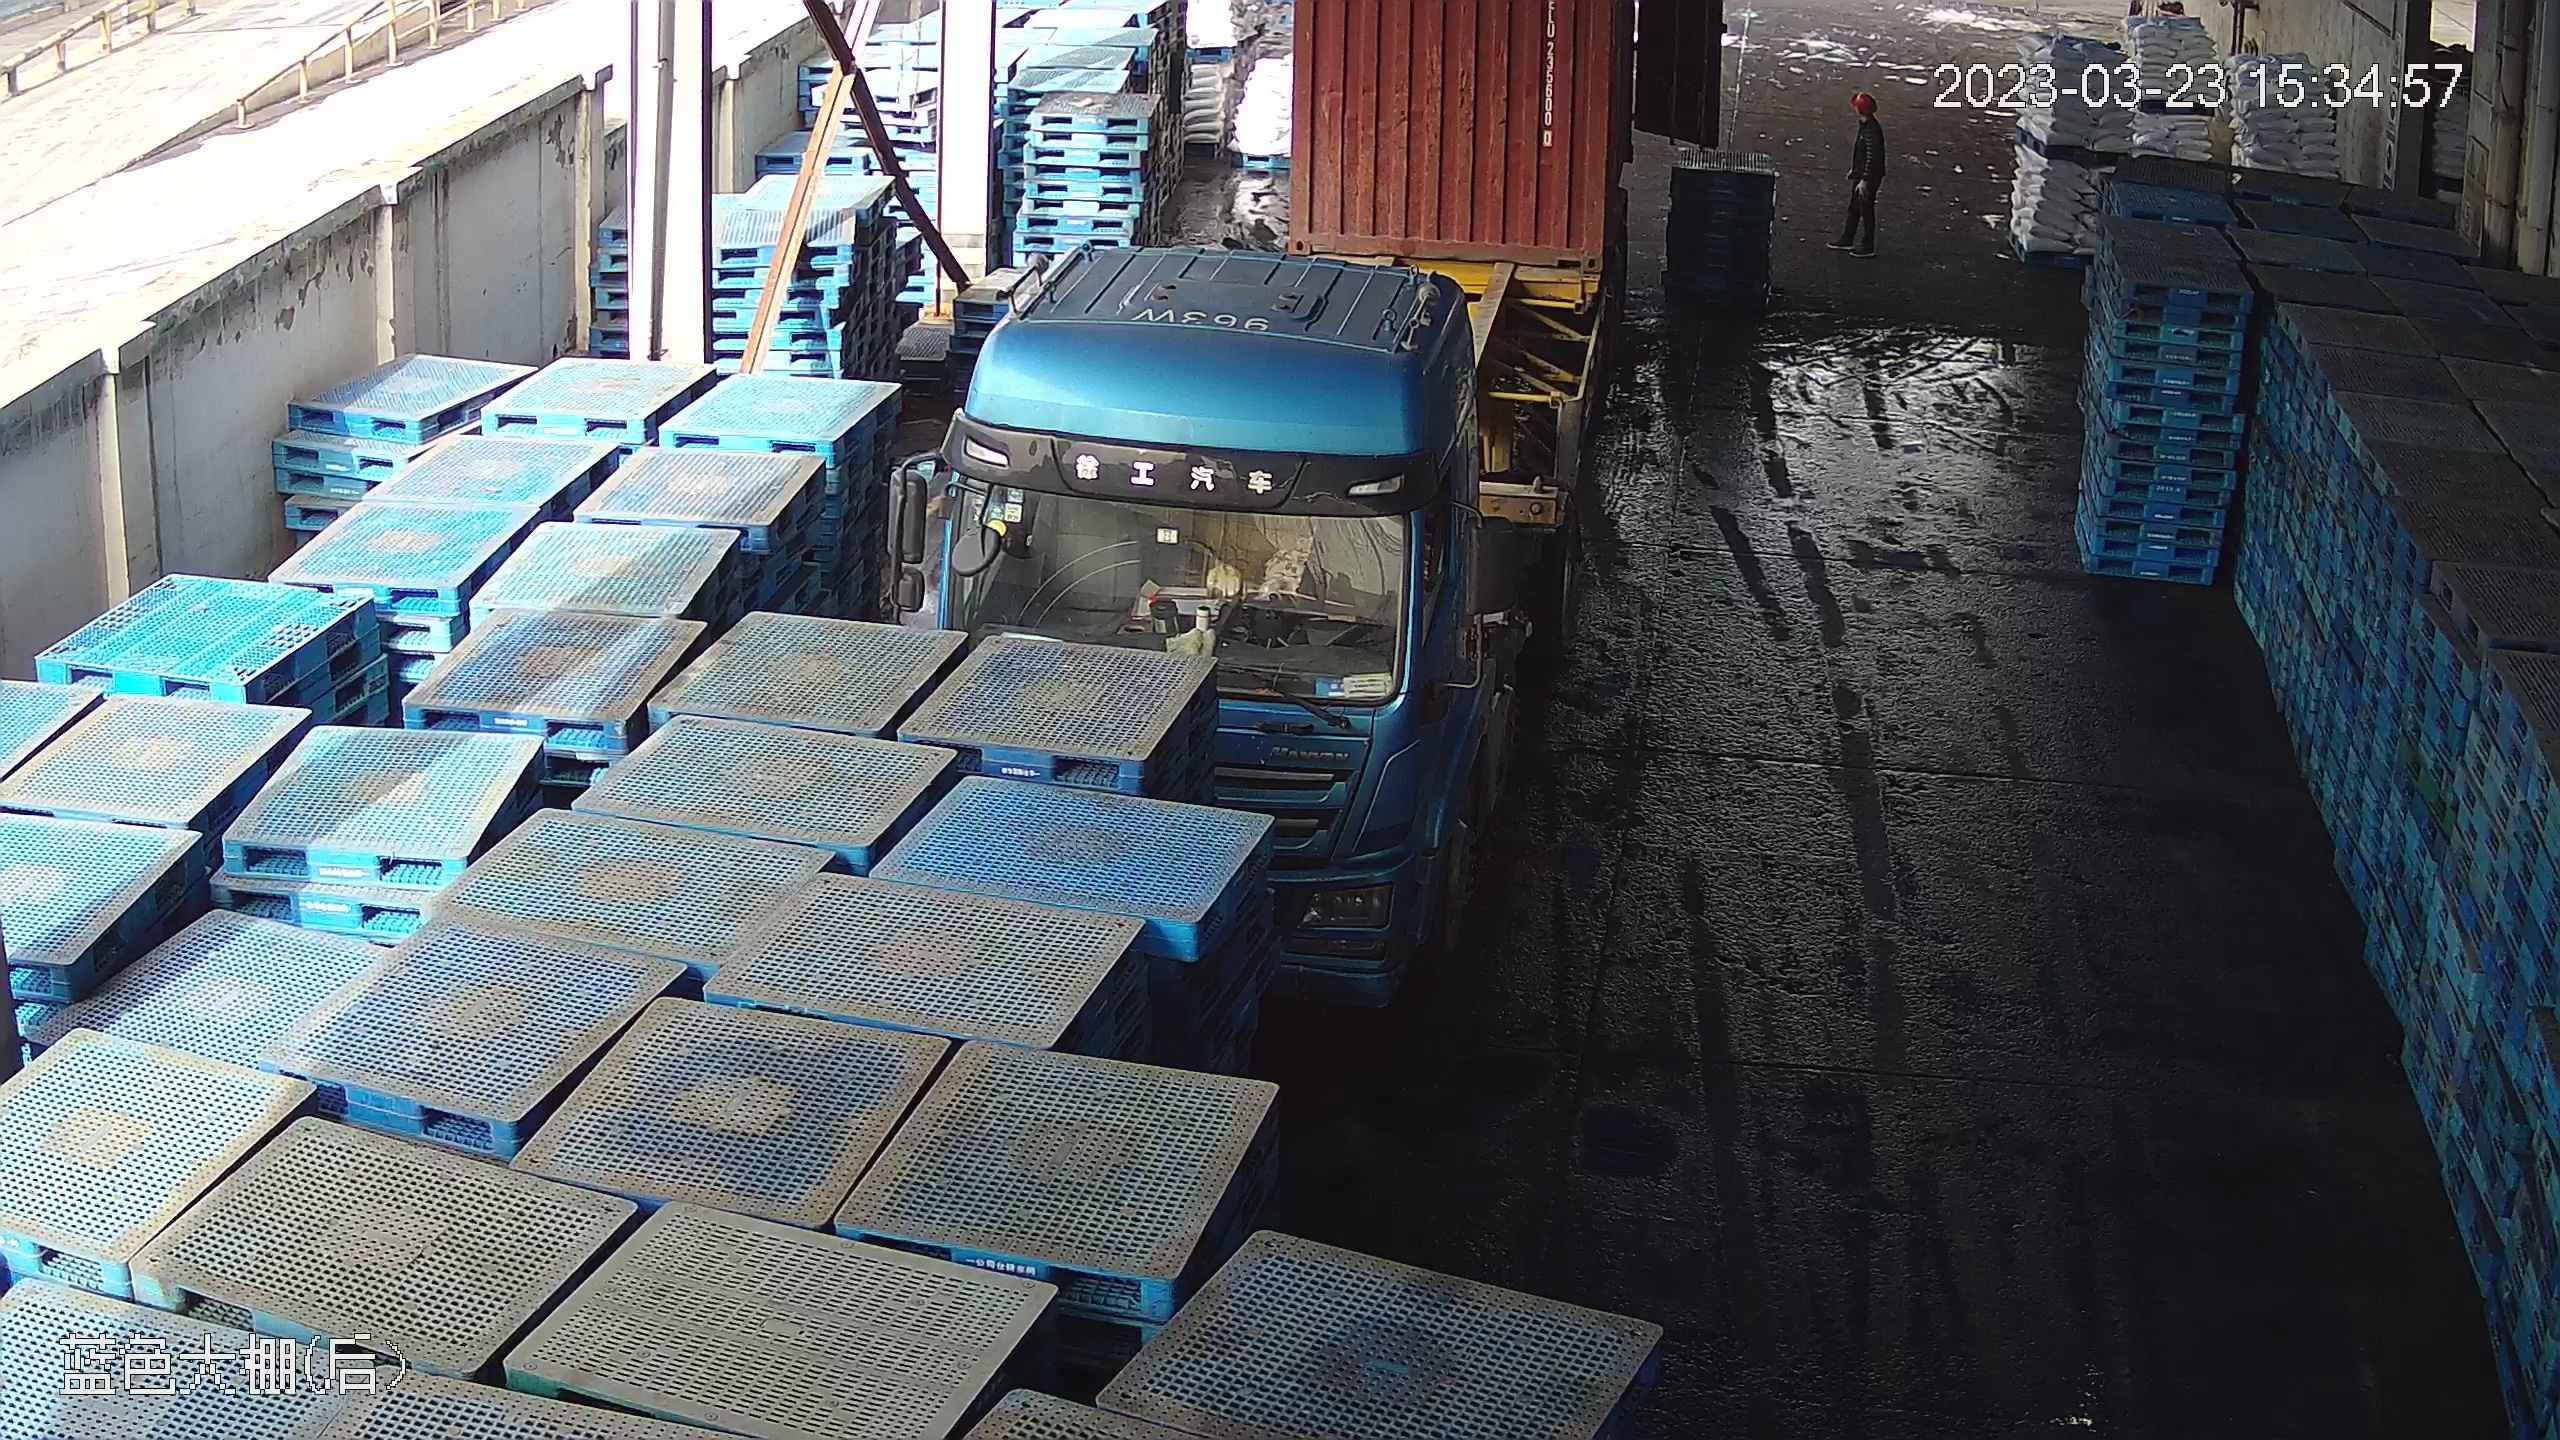head: (1848, 87, 1887, 138)
helmet: (1854, 84, 1876, 102)
people: (1830, 86, 1890, 260)
truck: (887, 1, 1623, 866)
